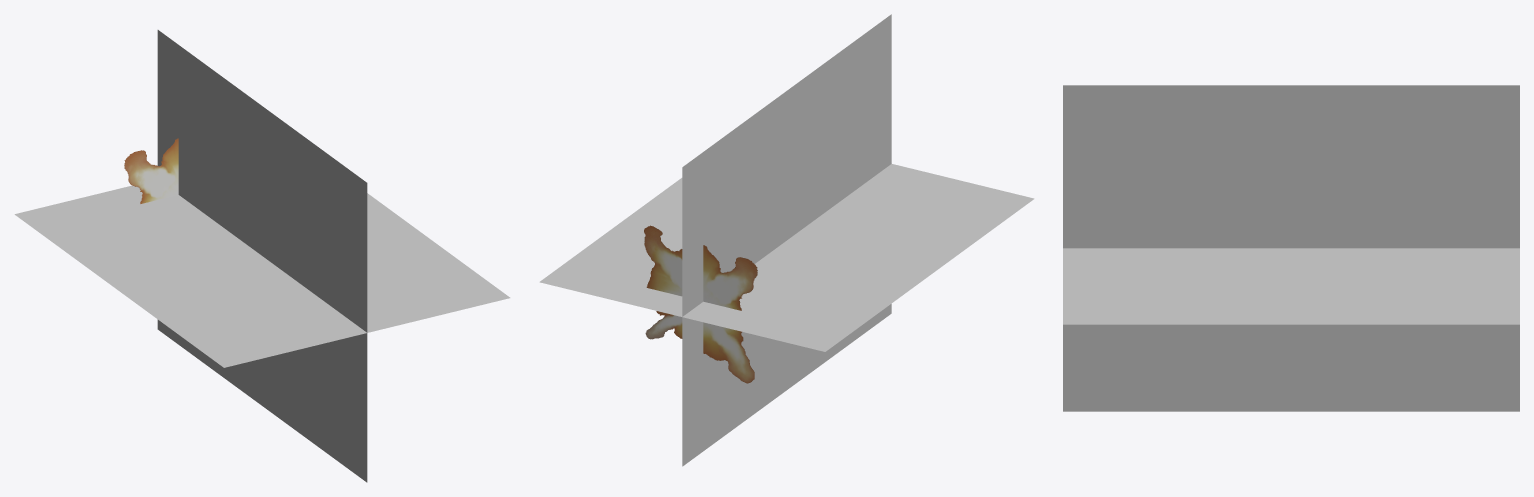
File: muzzle_flash.fbx
3 views of the same model, side by side, from view 1: azimuth 30°, elevation 25°; view 2: azimuth 150°, elevation 25°; view 3: azimuth 270°, elevation 25° (orthographic). The views are drawn at different scales.
Parts seen in each view (by area): view 1: muzzle_flash; view 2: muzzle_flash; view 3: muzzle_flash.
Boxes of the visible parts, x1=… form: muzzle_flash: x1=14, y1=30, x2=510, y2=482; muzzle_flash: x1=539, y1=14, x2=1034, y2=466; muzzle_flash: x1=1063, y1=85, x2=1519, y2=411.
Bounding box in the file's own units: 44.58 × 44.58 × 56.53.
